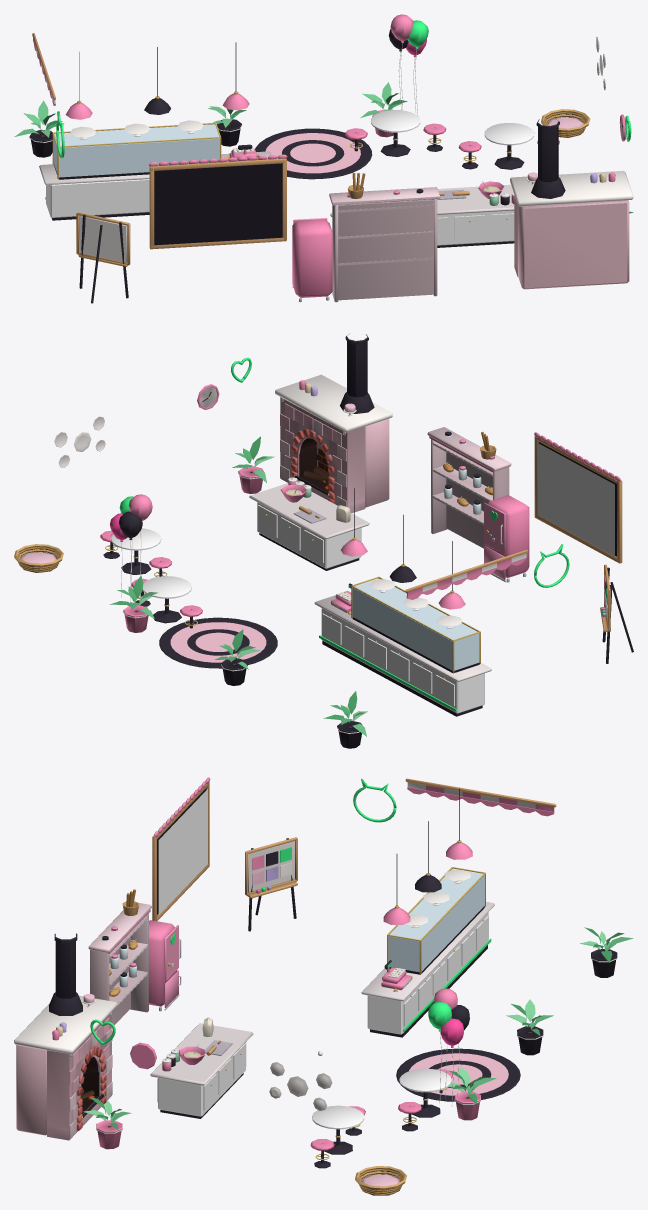
File: zon_room_bakery_lite.glb
3 views of the same model, one above another, from view 1: azimuth 30°, elevation 25°; view 2: azimuth 150°, elevation 25°; view 3: azimuth 270°, elevation 25° (orthographic). The views are drawn at different scales.
Parts seen in each view (by area): view 1: SM_zon_room_bakery_lite_room_floor_plaster_xm1_z1, SM_zon_room_bakery_lite_room_floor_wood_xm1_z1, SM_zon_room_bakery_lite_room_floor_gloss_xm1_z1, SM_zon_room_bakery_lite_room_floor_glaze_xm1_z1, SM_zon_room_bakery_lite_kit_interior_xm1_z1, SM_zon_room_bakery_lite_bakery_glass_xm1_z1, SM_zon_room_bakery_lite_room_floor_fabric_xm1_z1, ANIM_fur_bk_decor_lite_plant_2__0, ANIM_fur_bk_decor_lite_basket__0, ANIM_fur_bk_decor_lite_plant_1__0, ANIM_fur_bk_decor_lite_plant_0__0, ANIM_fur_bk_decor_lite_balloon_3__0 (+1 smaller); view 2: SM_zon_room_bakery_lite_room_floor_gloss_xm1_z1, SM_zon_room_bakery_lite_room_floor_glaze_xm1_z1, SM_zon_room_bakery_lite_kit_interior_xm1_z1, SM_zon_room_bakery_lite_room_floor_plaster_xm1_z1, SM_zon_room_bakery_lite_room_floor_wood_xm1_z1, SCREEN_fur_bk_menu__0, SM_zon_room_bakery_lite_bakery_glass_xm1_z1, SM_zon_room_bakery_lite_room_floor_fabric_xm1_z1, ANIM_fur_bk_decor_lite_basket__0, ANIM_fur_bk_decor_lite_plant_0__0, ANIM_fur_bk_decor_lite_plant_2__0, ANIM_fur_bk_decor_lite_plant_1__0 (+2 smaller); view 3: SM_zon_room_bakery_lite_room_floor_gloss_xm1_z1, SM_zon_room_bakery_lite_room_floor_glaze_xm1_z1, SM_zon_room_bakery_lite_room_floor_plaster_xm1_z1, SM_zon_room_bakery_lite_kit_interior_xm1_z1, SM_zon_room_bakery_lite_room_floor_wood_xm1_z1, SM_zon_room_bakery_lite_bakery_glass_xm1_z1, SCREEN_fur_bk_menu__0, SM_zon_room_bakery_lite_room_floor_fabric_xm1_z1, ANIM_fur_bk_decor_lite_basket__0, ANIM_fur_bk_decor_lite_plant_1__0, ANIM_fur_bk_decor_lite_plant_0__0, ANIM_fur_bk_decor_lite_plant_2__0 (+3 smaller).
Part boxes in pixels (left/top/right/bottom): SM_zon_room_bakery_lite_room_floor_plaster_xm1_z1: left=154, top=133, right=629, bottom=289; SM_zon_room_bakery_lite_room_floor_wood_xm1_z1: left=32, top=33, right=469, bottom=302; SM_zon_room_bakery_lite_room_floor_gloss_xm1_z1: left=51, top=42, right=626, bottom=303; SM_zon_room_bakery_lite_room_floor_glaze_xm1_z1: left=39, top=37, right=633, bottom=262; SM_zon_room_bakery_lite_kit_interior_xm1_z1: left=46, top=110, right=534, bottom=245; SM_zon_room_bakery_lite_bakery_glass_xm1_z1: left=53, top=124, right=219, bottom=177; SM_zon_room_bakery_lite_room_floor_fabric_xm1_z1: left=33, top=38, right=559, bottom=198; ANIM_fur_bk_decor_lite_plant_2__0: left=14, top=100, right=64, bottom=157; ANIM_fur_bk_decor_lite_basket__0: left=541, top=109, right=590, bottom=137; ANIM_fur_bk_decor_lite_plant_1__0: left=208, top=106, right=246, bottom=146; ANIM_fur_bk_decor_lite_plant_0__0: left=360, top=82, right=407, bottom=137; ANIM_fur_bk_decor_lite_balloon_3__0: left=390, top=14, right=413, bottom=110; SM_zon_room_bakery_lite_room_floor_gloss_xm1_z1: left=103, top=334, right=633, bottom=716; SM_zon_room_bakery_lite_room_floor_glaze_xm1_z1: left=54, top=374, right=620, bottom=681; SM_zon_room_bakery_lite_kit_interior_xm1_z1: left=111, top=502, right=484, bottom=713; SM_zon_room_bakery_lite_room_floor_plaster_xm1_z1: left=170, top=397, right=616, bottom=662; SM_zon_room_bakery_lite_room_floor_wood_xm1_z1: left=299, top=427, right=622, bottom=631; SCREEN_fur_bk_menu__0: left=538, top=443, right=614, bottom=556; SM_zon_room_bakery_lite_bakery_glass_xm1_z1: left=352, top=578, right=479, bottom=670; SM_zon_room_bakery_lite_room_floor_fabric_xm1_z1: left=100, top=443, right=526, bottom=668; ANIM_fur_bk_decor_lite_basket__0: left=14, top=544, right=63, bottom=572; ANIM_fur_bk_decor_lite_plant_0__0: left=110, top=575, right=158, bottom=632; ANIM_fur_bk_decor_lite_plant_2__0: left=323, top=691, right=367, bottom=748; ANIM_fur_bk_decor_lite_plant_1__0: left=215, top=629, right=260, bottom=685; SM_zon_room_bakery_lite_room_floor_gloss_xm1_z1: left=49, top=788, right=519, bottom=1168; SM_zon_room_bakery_lite_room_floor_glaze_xm1_z1: left=14, top=777, right=494, bottom=1138; SM_zon_room_bakery_lite_room_floor_plaster_xm1_z1: left=16, top=788, right=508, bottom=1140; SM_zon_room_bakery_lite_kit_interior_xm1_z1: left=157, top=912, right=488, bottom=1129; SM_zon_room_bakery_lite_room_floor_wood_xm1_z1: left=80, top=778, right=556, bottom=1100; SM_zon_room_bakery_lite_bakery_glass_xm1_z1: left=388, top=869, right=484, bottom=972; SCREEN_fur_bk_menu__0: left=158, top=789, right=207, bottom=915; SM_zon_room_bakery_lite_room_floor_fabric_xm1_z1: left=109, top=782, right=554, bottom=1150; ANIM_fur_bk_decor_lite_basket__0: left=355, top=1166, right=406, bottom=1195; ANIM_fur_bk_decor_lite_plant_1__0: left=506, top=999, right=553, bottom=1055; ANIM_fur_bk_decor_lite_plant_0__0: left=448, top=1067, right=496, bottom=1120; ANIM_fur_bk_decor_lite_plant_2__0: left=580, top=927, right=633, bottom=977.
Size of the model in its own units: 15.37 by 4.31 by 14.14.
